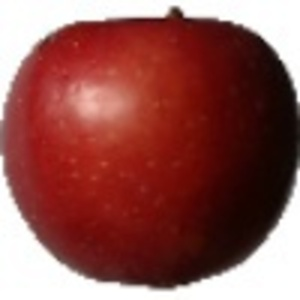maçã braeburn: (1, 9, 297, 289)
